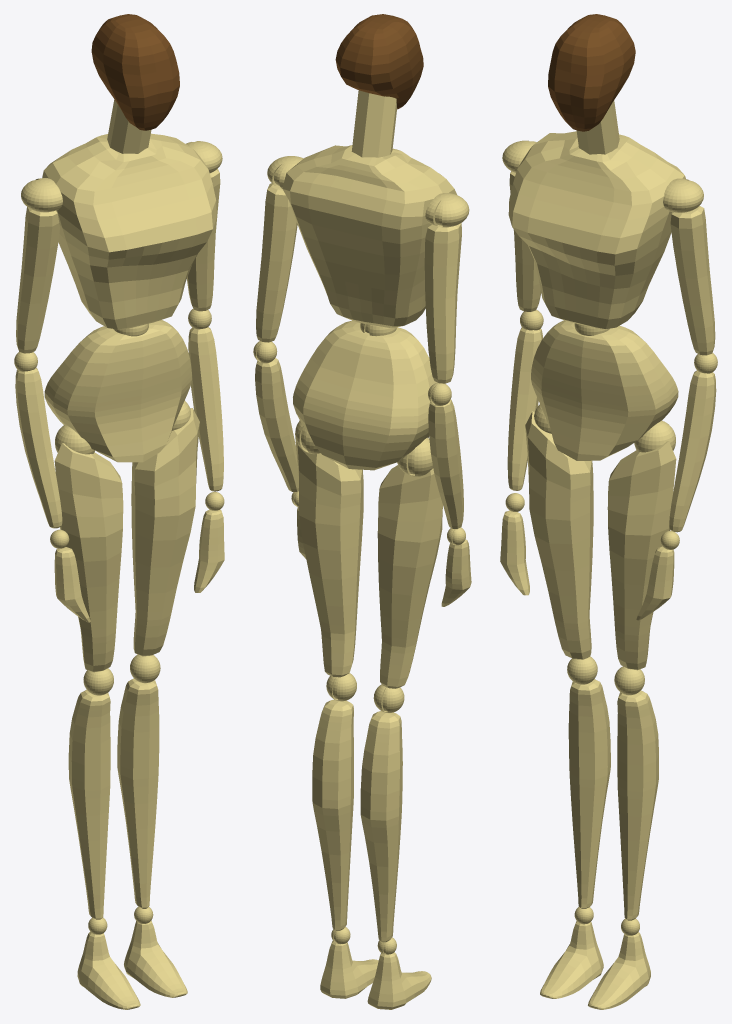
Rendered from MannequinFemale.fbx.
The picture shows the model from 3 angles, left to right: view 1: azimuth 30°, elevation 25°; view 2: azimuth 150°, elevation 25°; view 3: azimuth 330°, elevation 25°; orthographic projection.
Parts seen in each view (by area): view 1: Torso, Hips, Leg upper L, Leg upper R, Head, Leg lower L, Leg lower R, Upper arm R, lower arm L, lower arm R, Foot L, Foot R (+9 smaller); view 2: Torso, Hips, Leg upper L, Leg upper R, Leg lower R, Leg lower L, Head, Upper arm R, Upper arm L, lower arm L, lower arm R, Neck (+8 smaller); view 3: Torso, Hips, Leg upper R, Leg upper L, Head, Leg lower L, Leg lower R, Upper arm L, lower arm L, lower arm R, Foot R, Foot L (+9 smaller).
Boxes of the visible parts, <box> form: Torso: <box>42,133,216,329</box>; Hips: <box>44,320,191,462</box>; Leg upper L: <box>131,408,199,656</box>; Leg upper R: <box>54,443,123,672</box>; Head: <box>91,14,179,130</box>; Leg lower L: <box>117,678,159,908</box>; Leg lower R: <box>68,690,110,919</box>; Upper arm R: <box>16,207,59,353</box>; lower arm L: <box>188,327,223,491</box>; lower arm R: <box>15,367,62,528</box>; Foot L: <box>124,920,187,997</box>; Foot R: <box>77,931,140,1009</box>; Torso: <box>282,145,456,327</box>; Hips: <box>293,320,437,470</box>; Leg upper L: <box>295,433,363,677</box>; Leg upper R: <box>377,465,442,688</box>; Leg lower R: <box>360,711,402,942</box>; Leg lower L: <box>312,699,353,930</box>; Head: <box>335,14,423,109</box>; Upper arm R: <box>424,223,461,383</box>; Upper arm L: <box>256,183,297,342</box>; lower arm L: <box>255,358,298,492</box>; lower arm R: <box>428,399,463,529</box>; Neck: <box>351,90,397,157</box>; Torso: <box>508,131,685,329</box>; Hips: <box>531,320,678,460</box>; Leg upper R: <box>525,411,593,659</box>; Leg upper L: <box>607,441,676,670</box>; Head: <box>548,14,635,131</box>; Leg lower L: <box>617,690,658,920</box>; Leg lower R: <box>568,679,610,908</box>; Upper arm L: <box>670,206,715,355</box>; lower arm L: <box>669,370,716,532</box>; lower arm R: <box>507,327,542,490</box>; Foot R: <box>540,921,603,998</box>; Foot L: <box>588,932,650,1009</box>.
Size of the model in its own units: 104 by 481 by 60.81.
